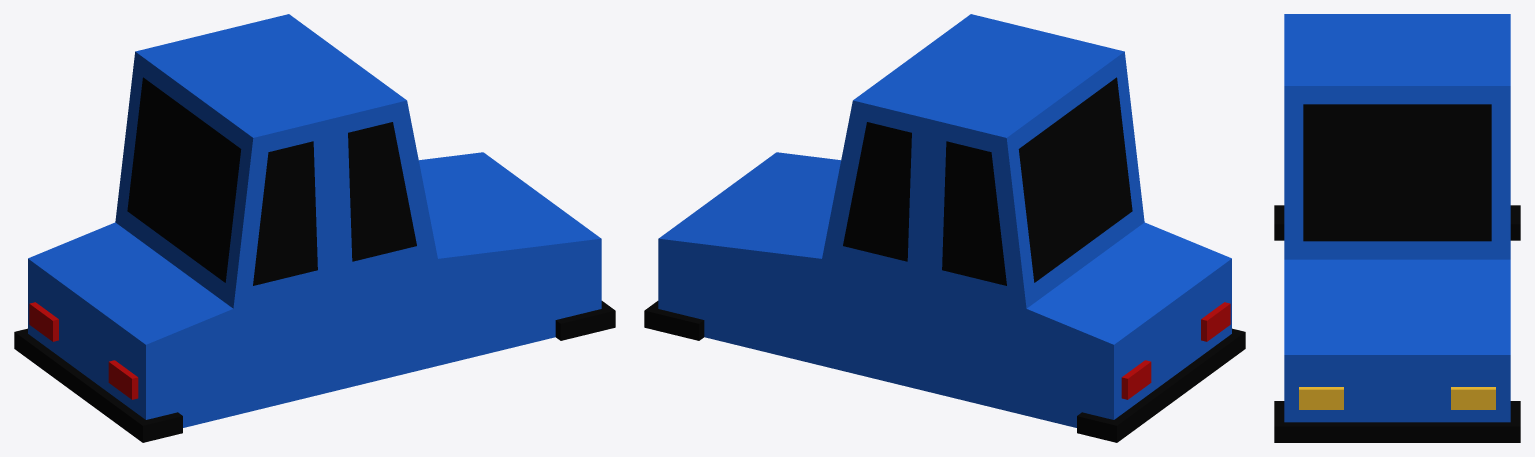
Rendered from CityCar_Sedan_06.fbx.
3 views of the same model, side by side, from view 1: azimuth 30°, elevation 25°; view 2: azimuth 150°, elevation 25°; view 3: azimuth 270°, elevation 25° (orthographic). The views are drawn at different scales.
Parts seen in each view (by area): view 1: CityCar_Sedan_06; view 2: CityCar_Sedan_06; view 3: CityCar_Sedan_06.
Part boxes in pixels (<box>): CityCar_Sedan_06: <box>14,14,615,442</box>; CityCar_Sedan_06: <box>644,14,1245,442</box>; CityCar_Sedan_06: <box>1274,14,1520,442</box>.
Bounding box in the file's own units: 0.4902 × 0.2706 × 0.2307.
